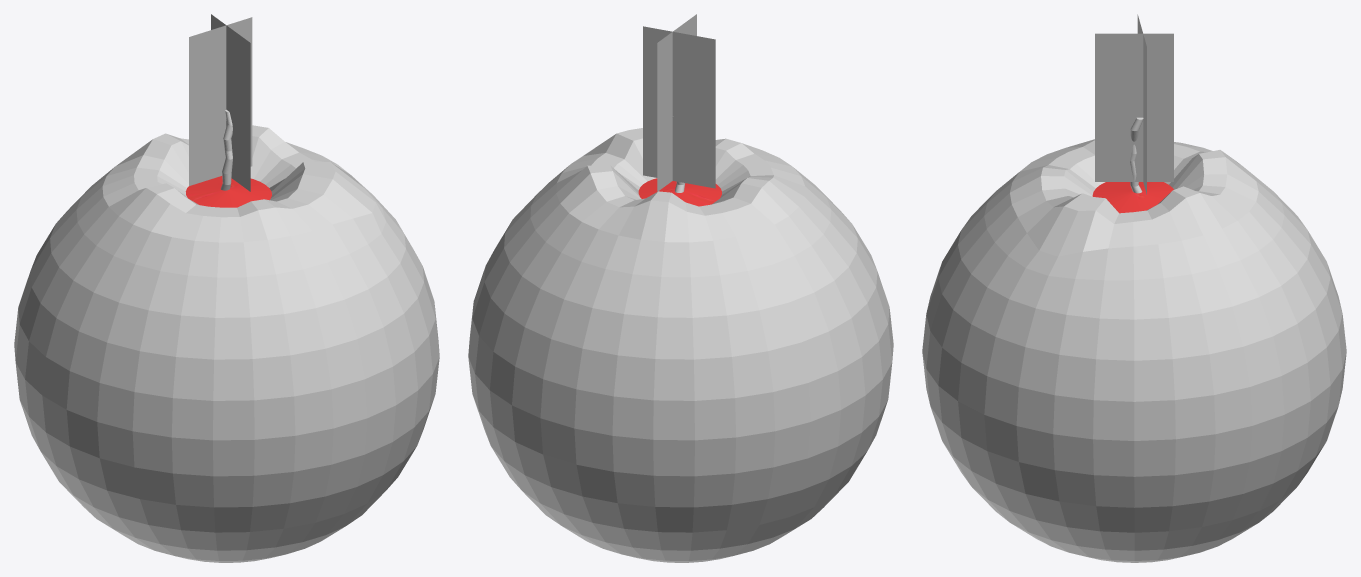
Rendered from Watermelon.fbx.
The picture shows the model from 3 angles, left to right: view 1: azimuth 30°, elevation 25°; view 2: azimuth 150°, elevation 25°; view 3: azimuth 270°, elevation 25°; orthographic projection.
Parts seen in each view (by area): view 1: Sphere, Plane.001, Plane, Cylinder; view 2: Sphere, Plane.001, Plane; view 3: Sphere, Plane, Plane.001.
Boxes of the visible parts, x1,y1,x2,y2 form: Sphere: (14, 125, 439, 562); Plane.001: (189, 17, 252, 185); Plane: (211, 14, 250, 191); Cylinder: (221, 109, 232, 190); Sphere: (468, 128, 893, 562); Plane.001: (643, 26, 715, 188); Plane: (657, 14, 696, 191); Sphere: (922, 139, 1346, 562); Plane: (1095, 33, 1173, 181); Plane.001: (1137, 14, 1146, 194).
Size of the model in its own units: 73.57 by 94.78 by 73.56.
